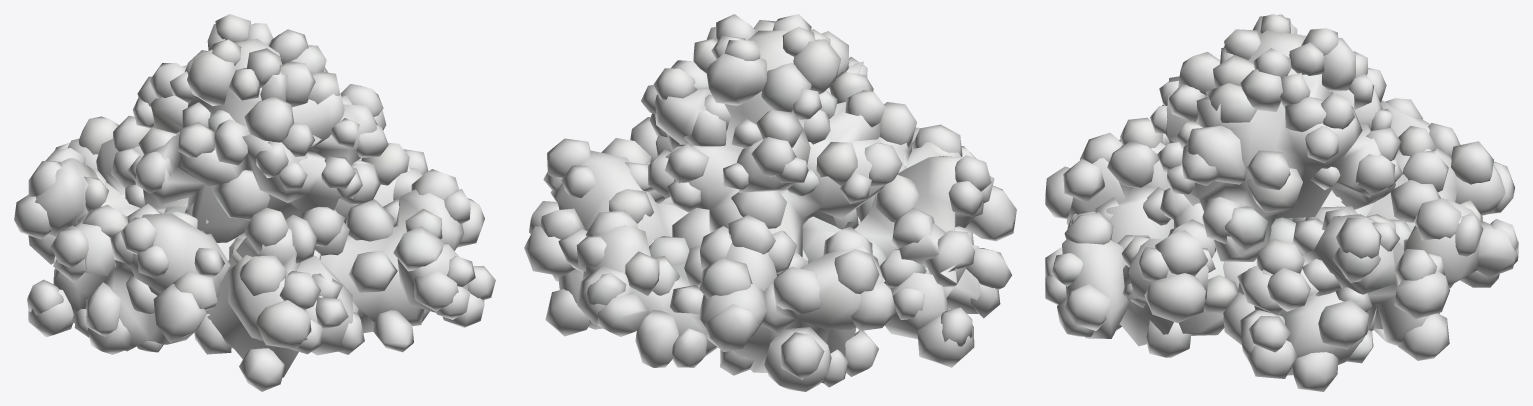
Rendered from meshy-cumulus.glb.
3 renders of one model, left to right at view 1: azimuth 30°, elevation 25°; view 2: azimuth 150°, elevation 25°; view 3: azimuth 270°, elevation 25°, orthographic. The views are drawn at different scales.
Size of the model in its own units: 1 by 0.6557 by 1.
1 material, 1 textured.
